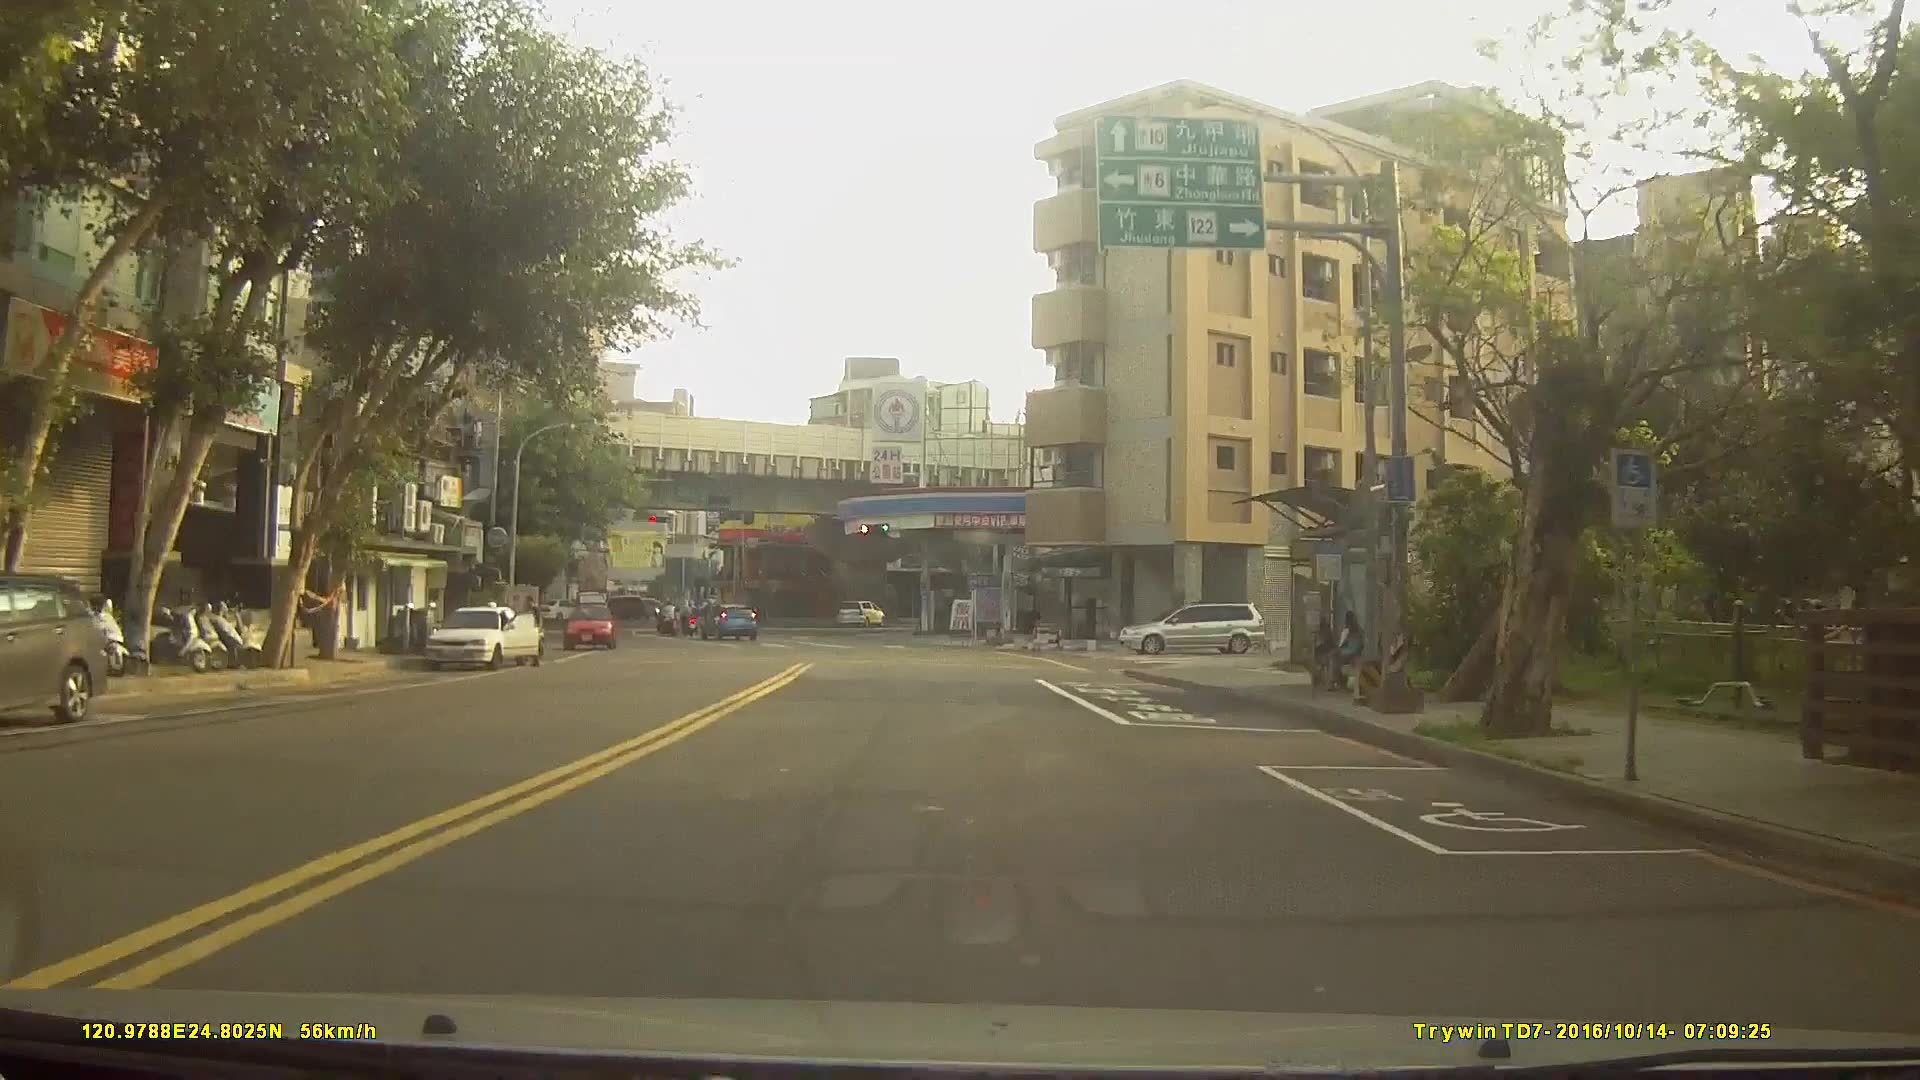pedestrian: (1333, 603, 1371, 708)
rider: (654, 599, 680, 639)
vehicle: (0, 570, 110, 722), (1120, 600, 1266, 655), (422, 601, 540, 669), (563, 599, 618, 649), (695, 599, 757, 640), (590, 592, 647, 622), (838, 599, 886, 628)
